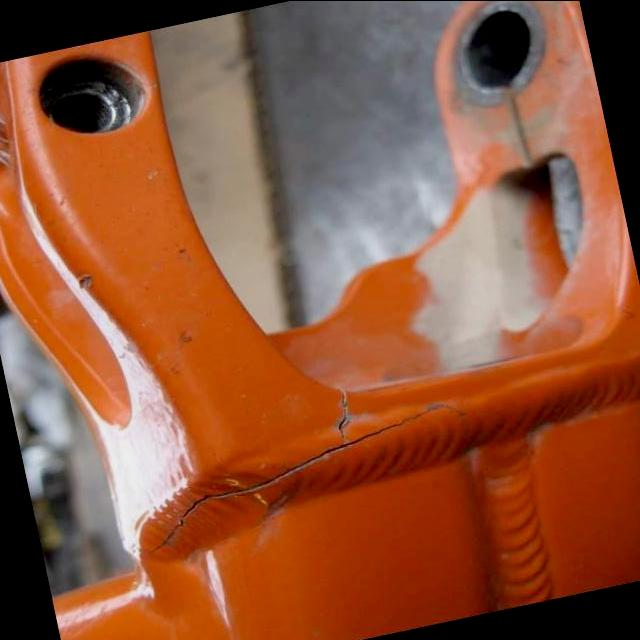defect: (144, 384, 472, 557)
